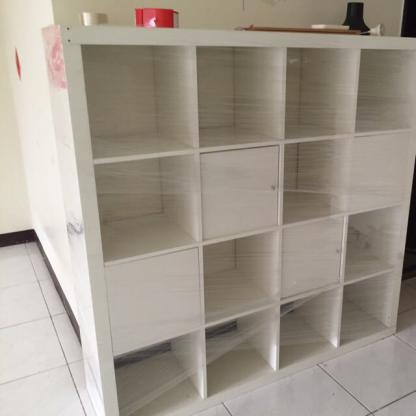lamp: (41, 22, 416, 415)
